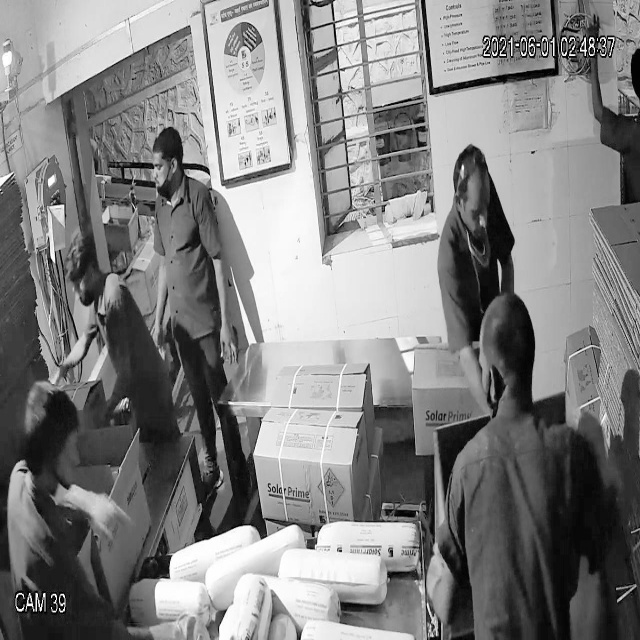Sin_gafas: (454, 196, 497, 233)
